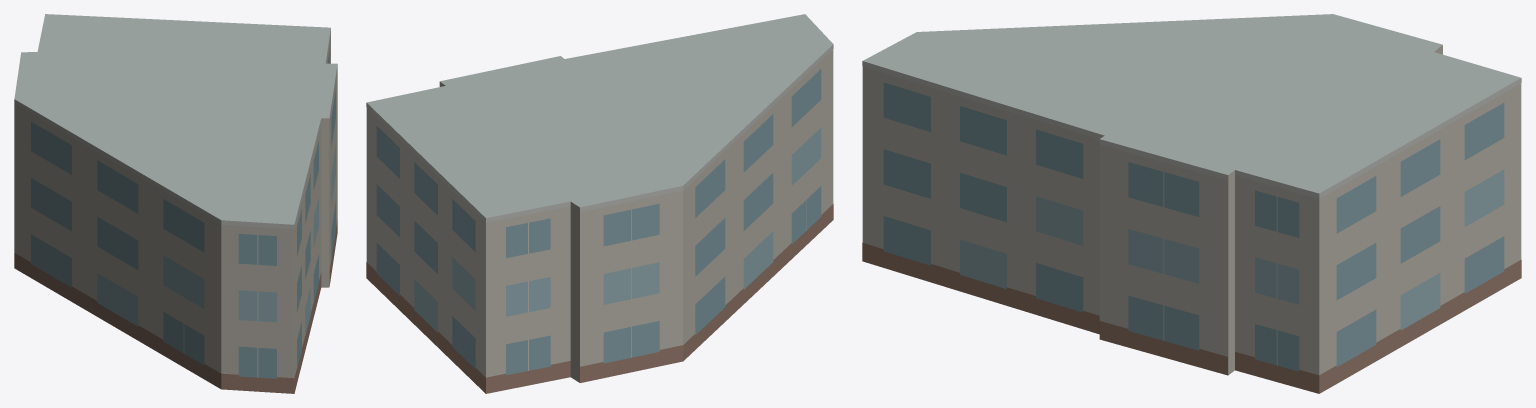
The model's file is survey-upis-32853458.glb.
3 renders of one model, left to right at view 1: azimuth 30°, elevation 25°; view 2: azimuth 150°, elevation 25°; view 3: azimuth 270°, elevation 25°, orthographic. The views are drawn at different scales.
Visible parts, largest first — view 1: survey-upis-32853458.tmp; view 2: survey-upis-32853458.tmp; view 3: survey-upis-32853458.tmp.
Part boxes in pixels (box(x1,y1,x2,y2)): survey-upis-32853458.tmp: box(14, 14, 337, 393); survey-upis-32853458.tmp: box(366, 14, 833, 393); survey-upis-32853458.tmp: box(862, 14, 1521, 393).
Size of the model in its own units: 17.6 by 9.15 by 27.29.
